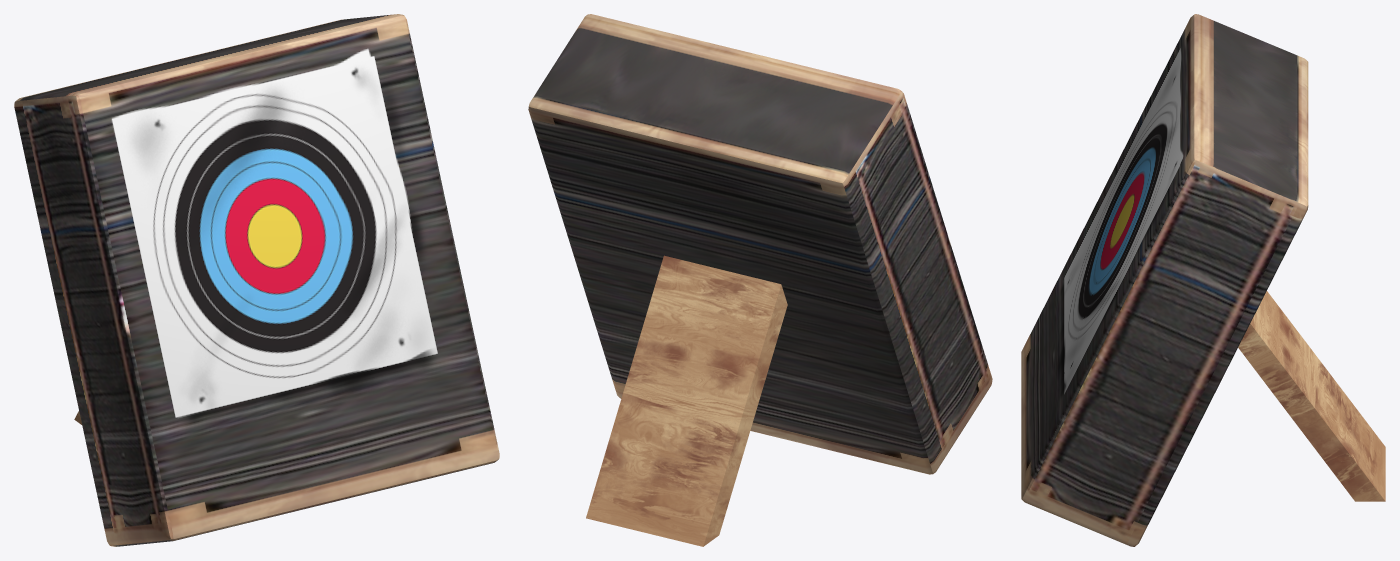
The model's file is target.fbx.
3 renders of one model, left to right at view 1: azimuth 30°, elevation 25°; view 2: azimuth 150°, elevation 25°; view 3: azimuth 270°, elevation 25°, orthographic. The views are drawn at different scales.
Visible parts, largest first — view 1: polySurface1; view 2: polySurface1; view 3: polySurface1.
Boxes of the visible parts, x1,y1,x2,y2 form: polySurface1: [14, 14, 499, 546]; polySurface1: [528, 14, 992, 546]; polySurface1: [1021, 14, 1385, 546].
Bounding box in the file's own units: 208 × 254 × 216.
Materials: 1 (1 with a texture image).
